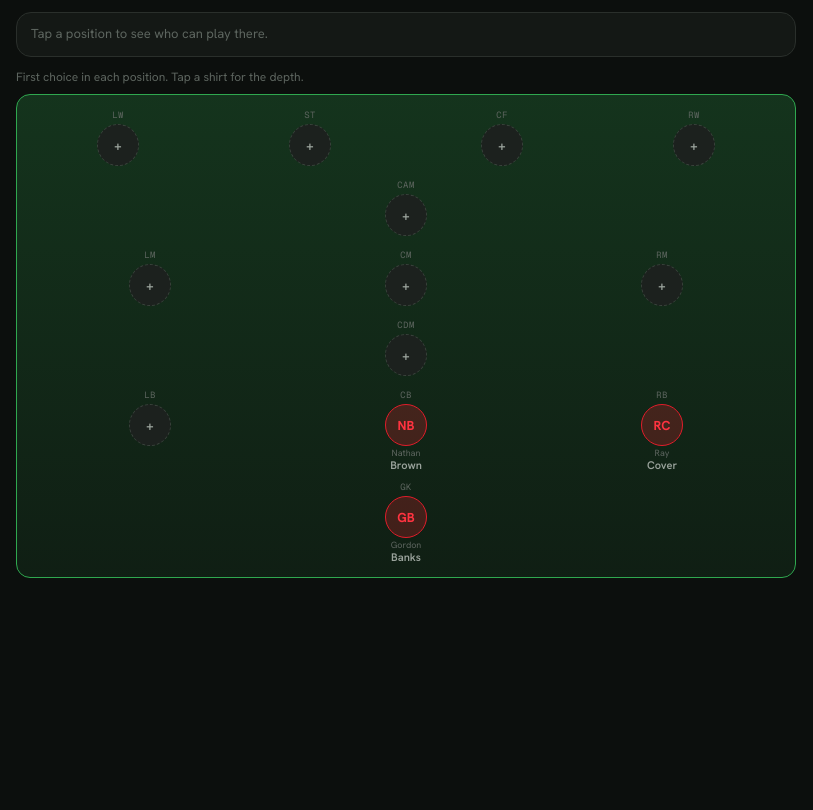
it: SquadDepth (§4.2) › tapping a position lists who can play it — preferred first, then cover
Press the mouse on the button "CB NB Nathan Brown" at (406, 430), box [376,389,436,471]
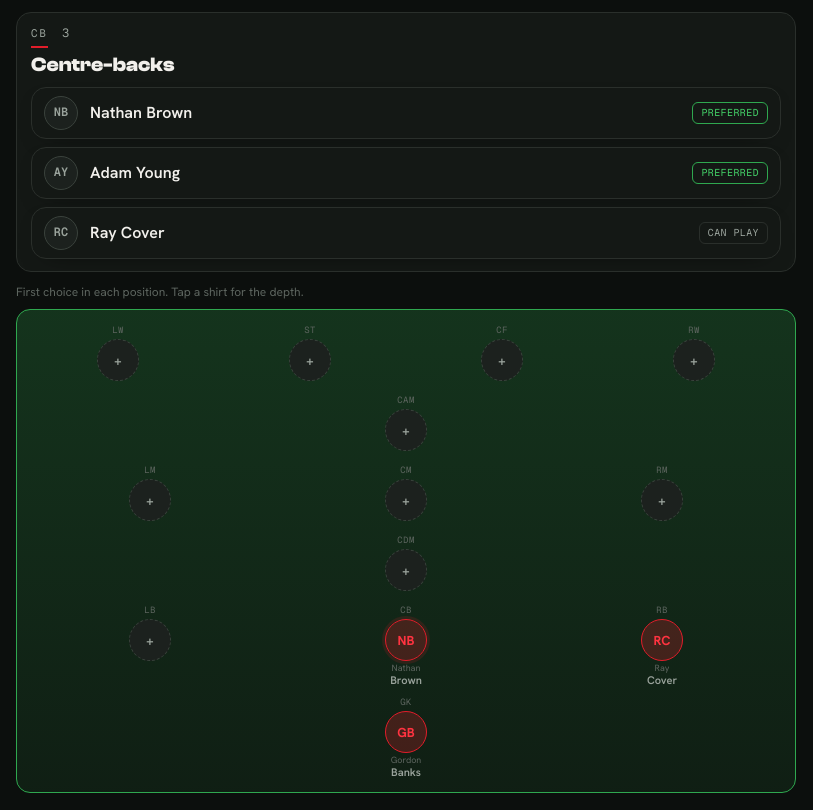
Expected: the text "Can play" is shown, [699,222,768,244]
Expected: the heading "Centre-backs" is shown, [31,53,174,76]
Expected: the 1st text "Preferred" is shown, [692,102,768,124]
